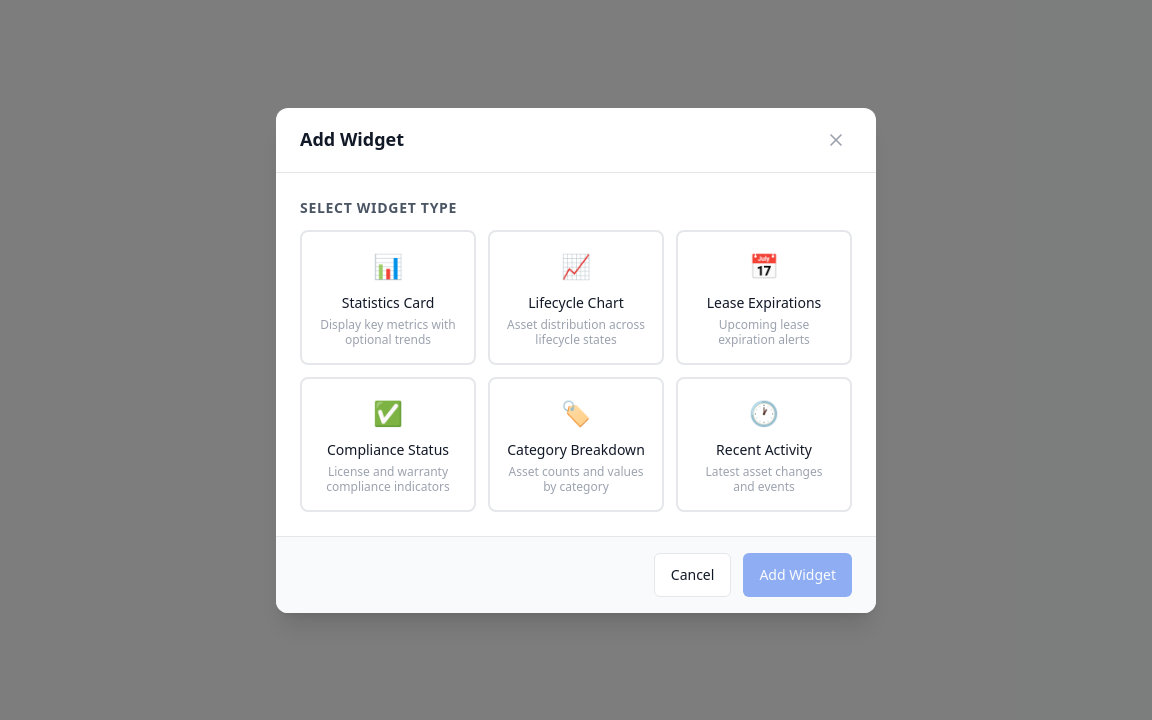
Scenario: WidgetPicker › Adding Widgets › disables add button when title is empty
Click the option "📊 Statistics Card Display key metrics with optional trends". click: (388, 297)
box: [300, 230, 476, 364]
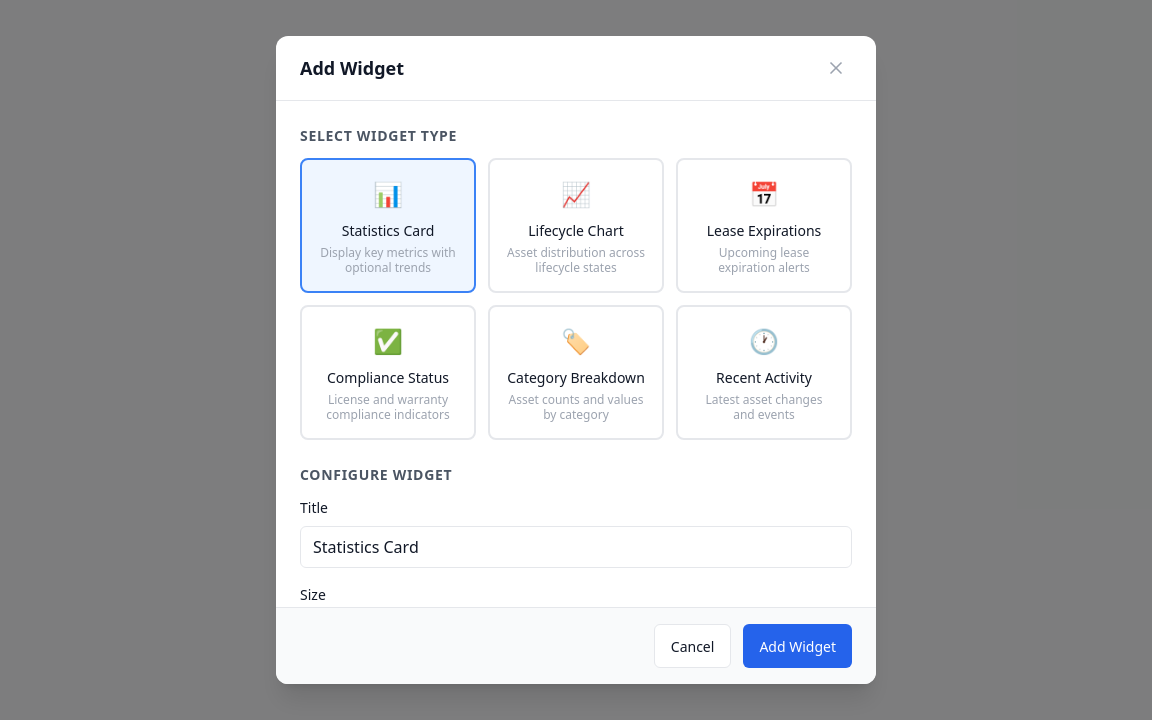
Clear the field labelled "Title". click: (576, 547)
box: [300, 526, 852, 568]
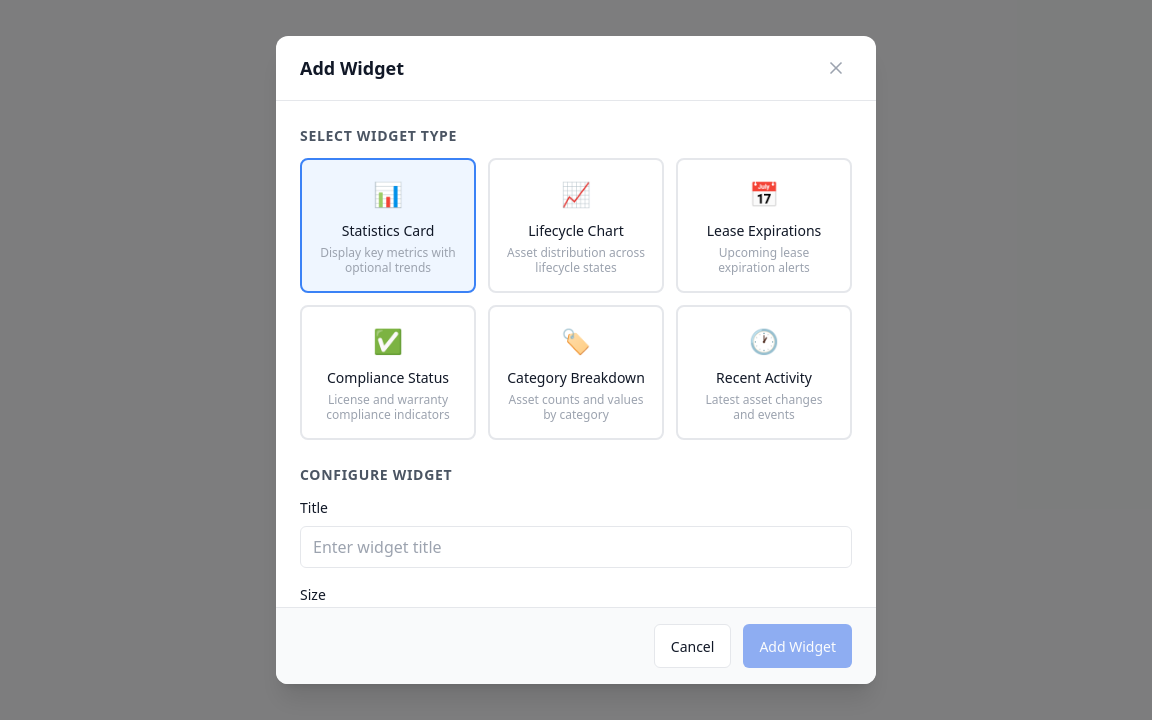
expect the button "Add Widget" is disabled: met, box [743, 624, 852, 668]
